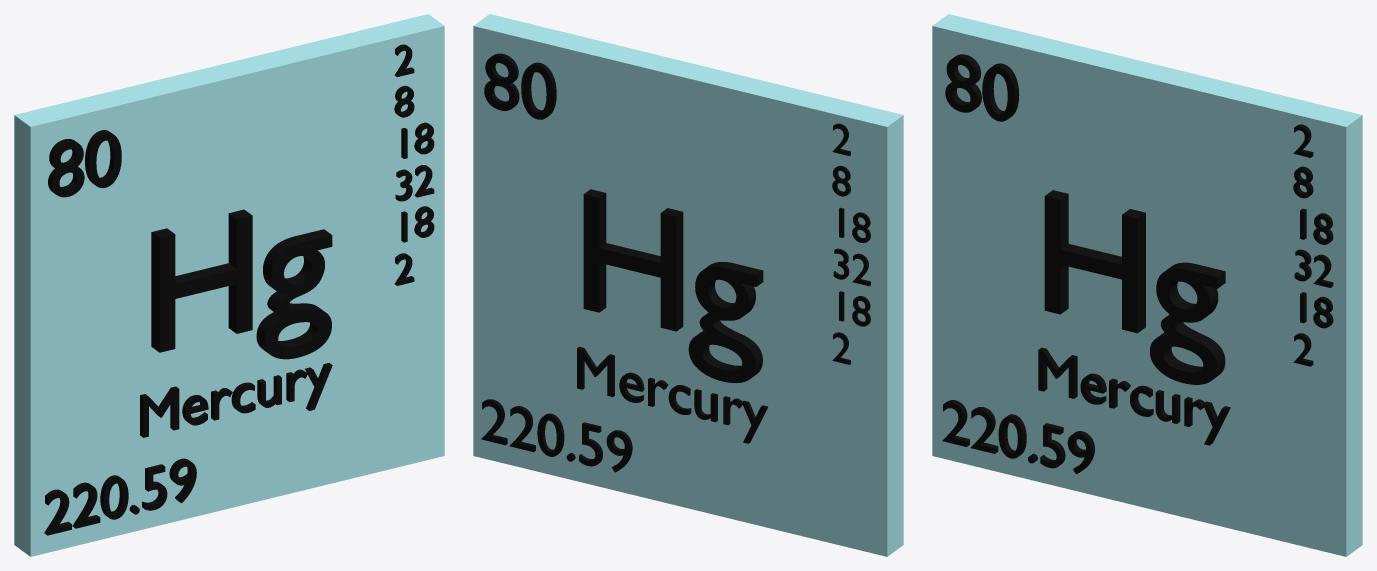
Rendered from mercuryText_01.fbx.
3 views of the same model, side by side, from view 1: azimuth 30°, elevation 25°; view 2: azimuth 150°, elevation 25°; view 3: azimuth 330°, elevation 25° (orthographic).
Visible parts, largest first — view 1: Text.395; view 2: Text.395; view 3: Text.395.
Part boxes in pixels (x1,y1,x2,y2): Text.395: [14, 14, 444, 556]; Text.395: [473, 14, 903, 556]; Text.395: [932, 14, 1362, 556].
Size of the model in its own units: 26.38 by 26.18 by 3.49.
